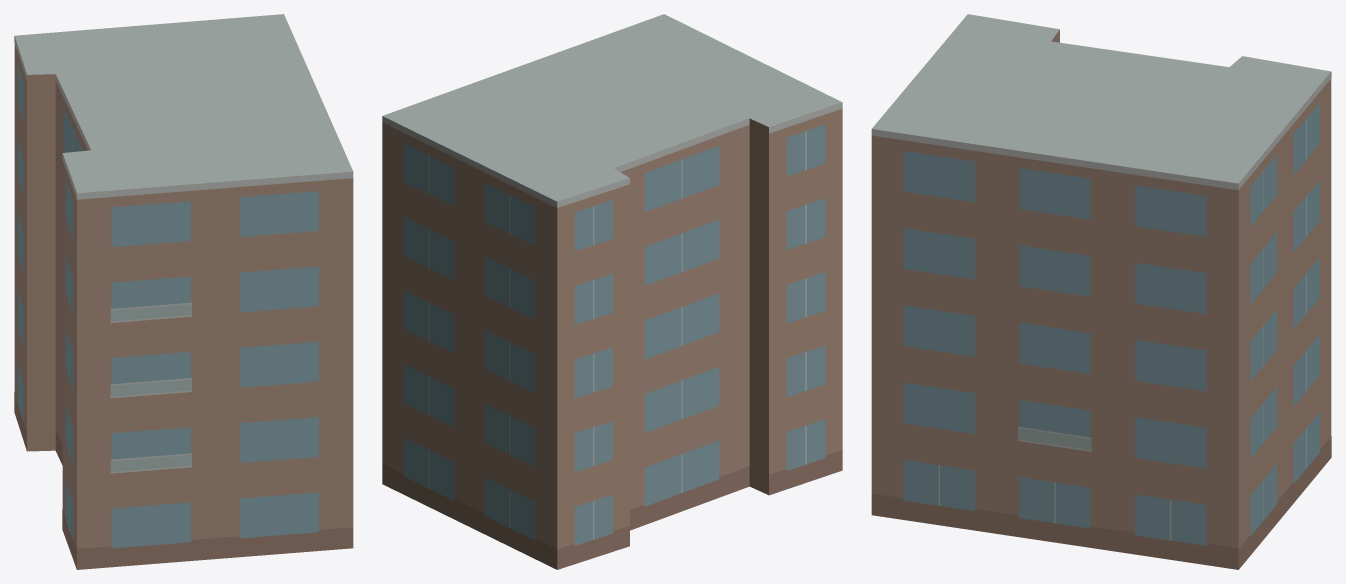
The model's file is survey-upis-32888507.glb.
3 views of the same model, side by side, from view 1: azimuth 30°, elevation 25°; view 2: azimuth 150°, elevation 25°; view 3: azimuth 270°, elevation 25° (orthographic). The views are drawn at different scales.
Visible parts, largest first — view 1: survey-upis-32888507.tmp; view 2: survey-upis-32888507.tmp; view 3: survey-upis-32888507.tmp.
Part boxes in pixels (x1=…): survey-upis-32888507.tmp: x1=14, y1=14, x2=353, y2=569; survey-upis-32888507.tmp: x1=382, y1=14, x2=842, y2=569; survey-upis-32888507.tmp: x1=871, y1=14, x2=1331, y2=569.
Size of the model in its own units: 13.48 by 14.3 by 15.44.
